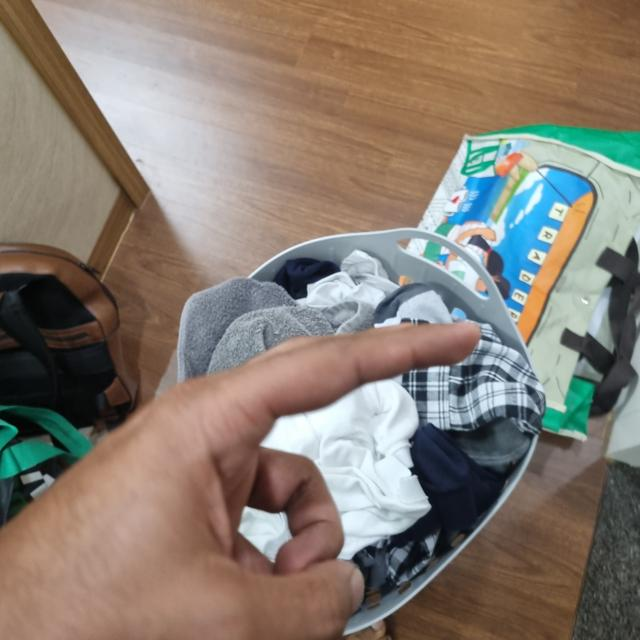Scissors: (0, 322, 486, 639)
